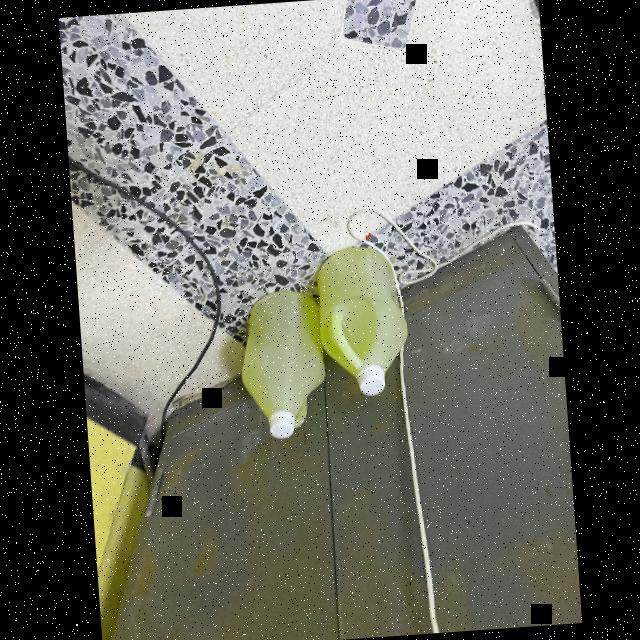chemical_plastic_gallon: (230, 276, 334, 446), (312, 248, 418, 399)
